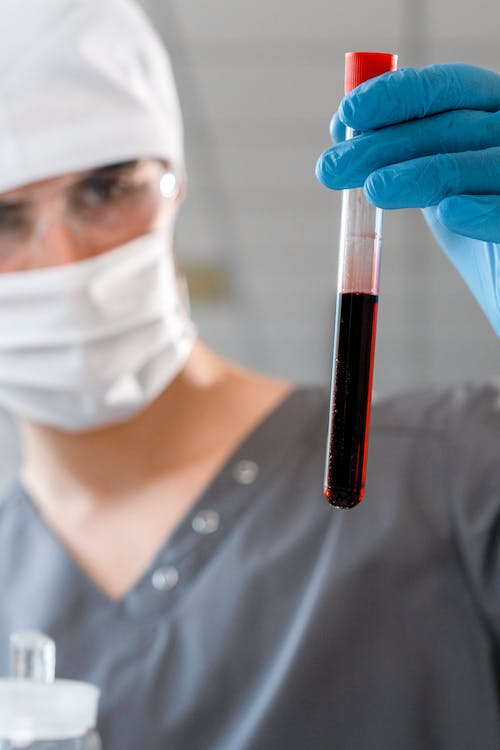blood: (321, 289, 379, 513)
